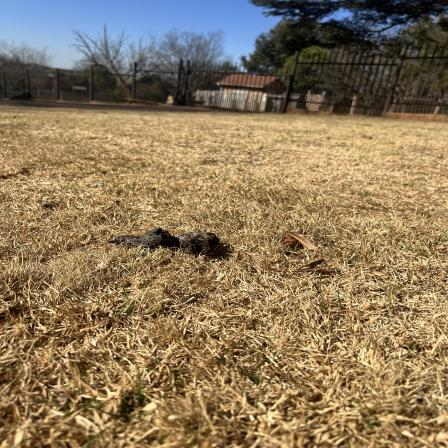dog-poop: (109, 216, 236, 266)
